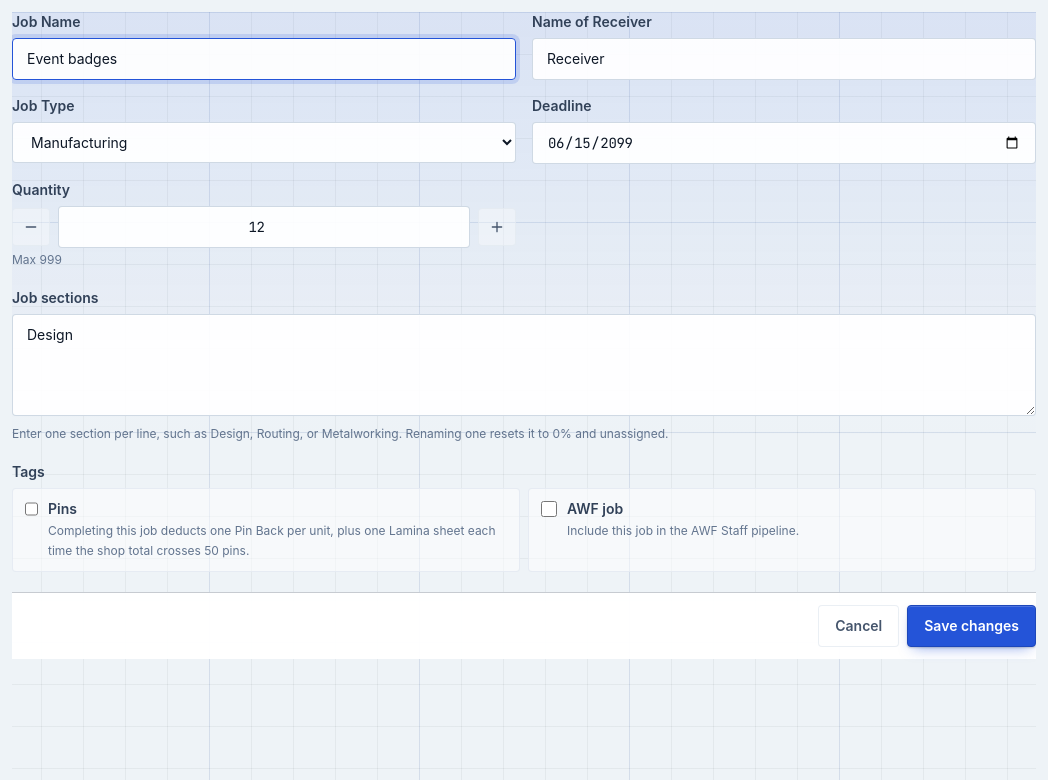
Test case: JobForm deadline-change reason field › disappears again when the original day is re-selected
Type "2099-07-20" into the date field labelled "Deadline" at (784, 143), box [532,122,1036,164]
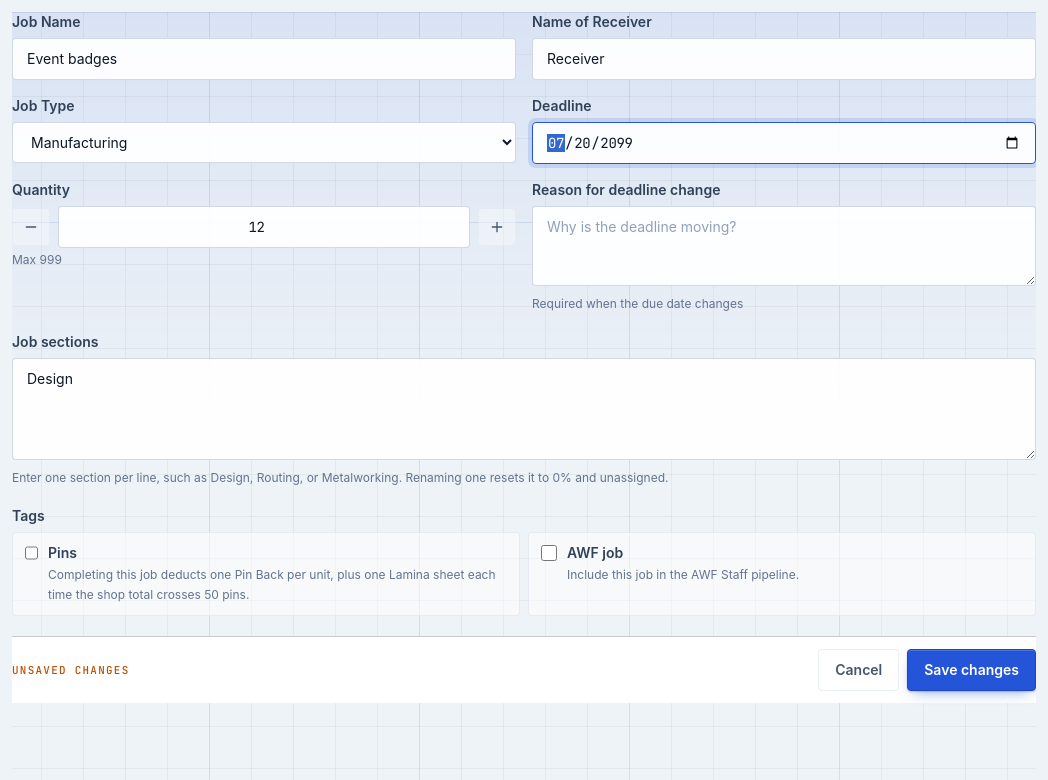
Check: the text box labelled "Reason for deadline change" is shown, box [532,206,1036,286]
Type "2099-06-15" into the date field labelled "Deadline" at (784, 143), box [532,122,1036,164]
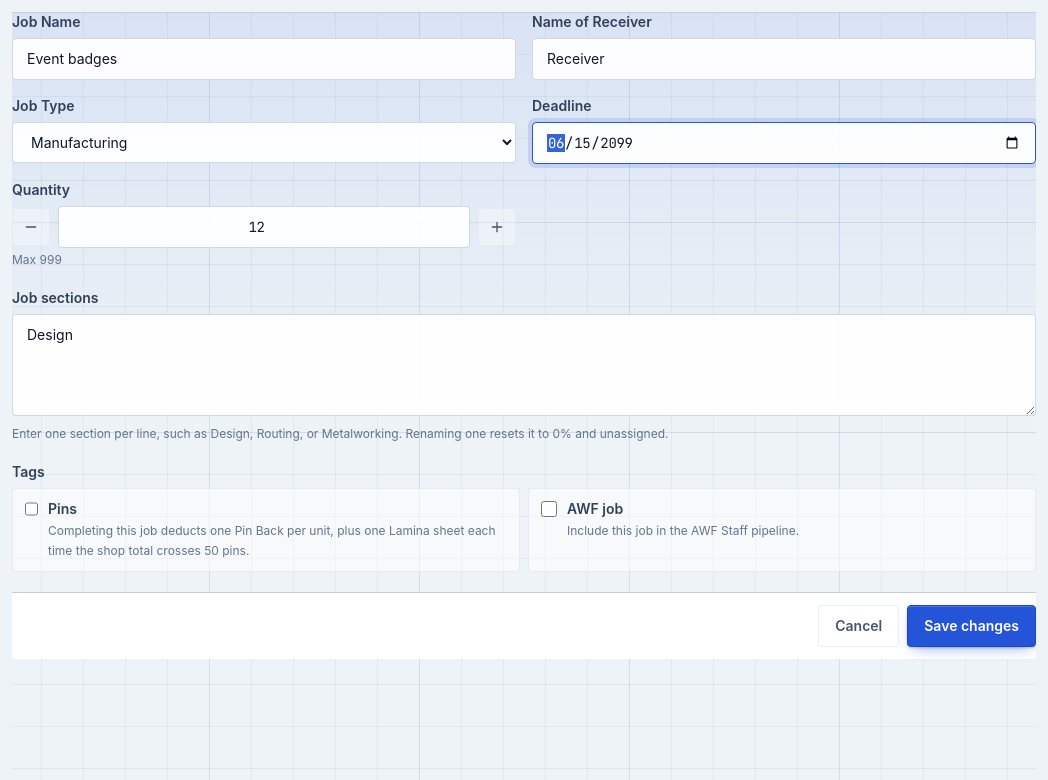
Check: the label labelled "Reason for deadline change" is gone
